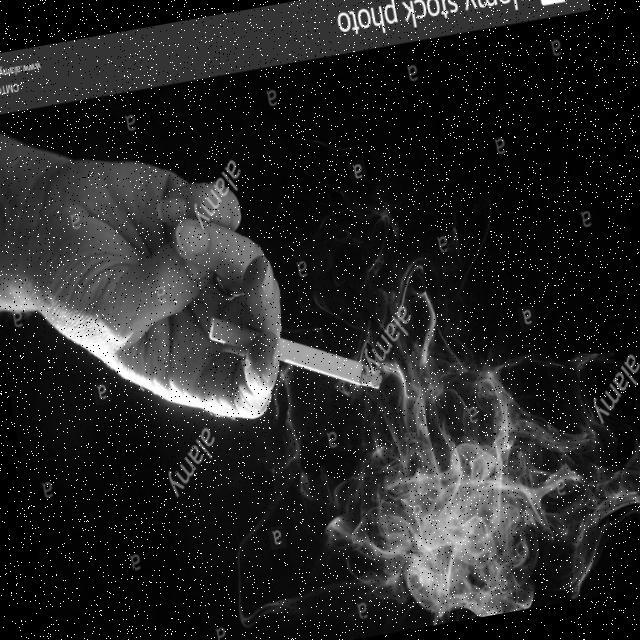cigarette: (259, 310, 387, 409)
